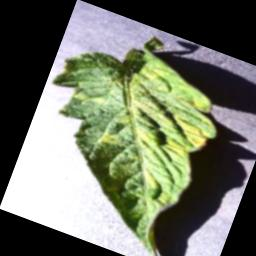Leaf_Mold: (4, 21, 234, 256)
